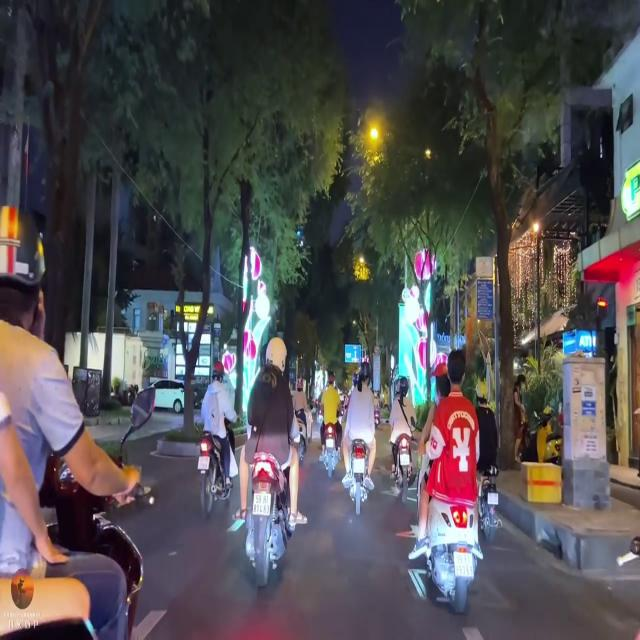bien_trang: (248, 488, 276, 520)
